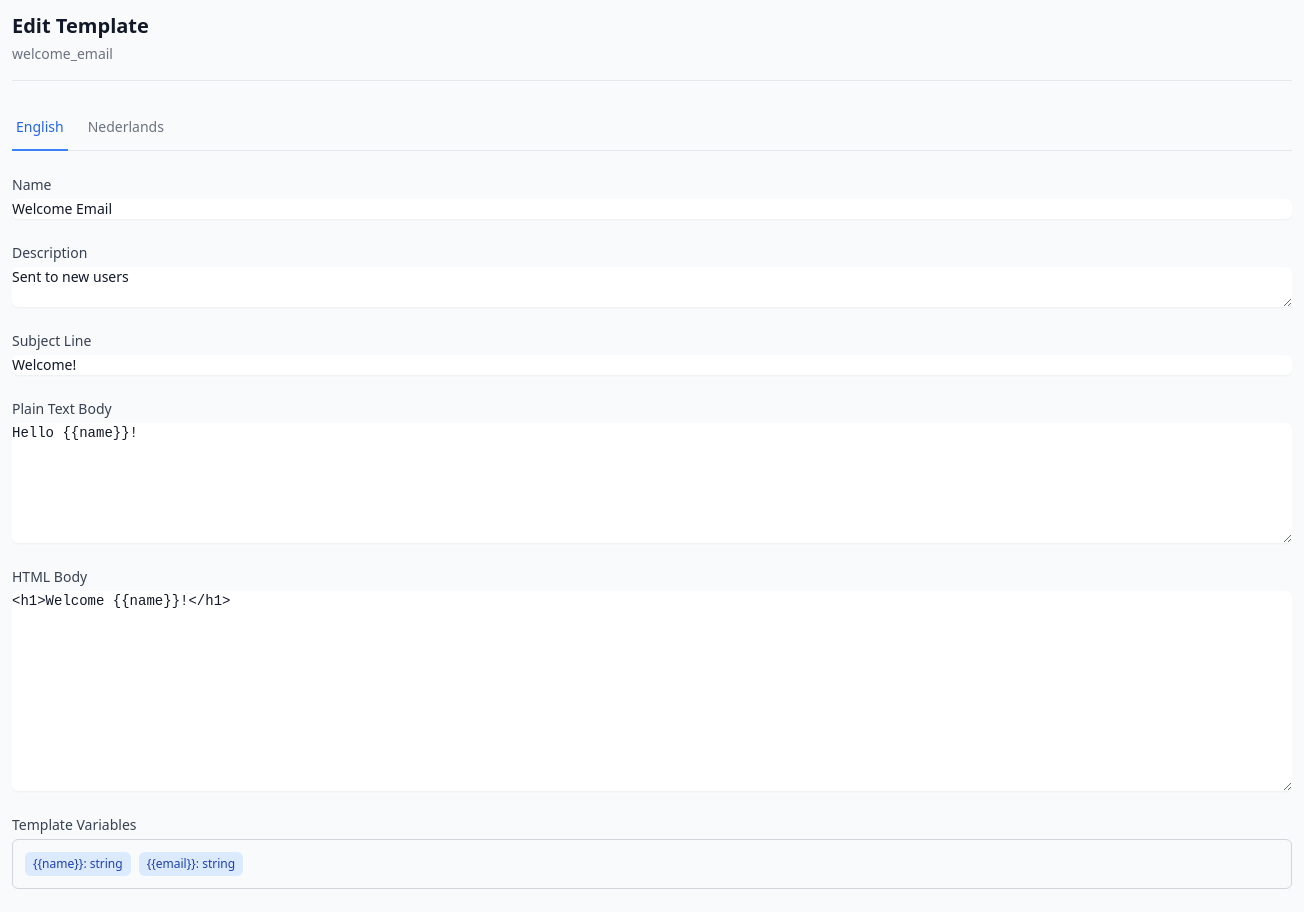
Test: EmailTemplateEditor › Language switching › should switch to Dutch content when NL tab is clicked
Click the button "Nederlands".
click(126, 128)  # box [84,105,168,151]
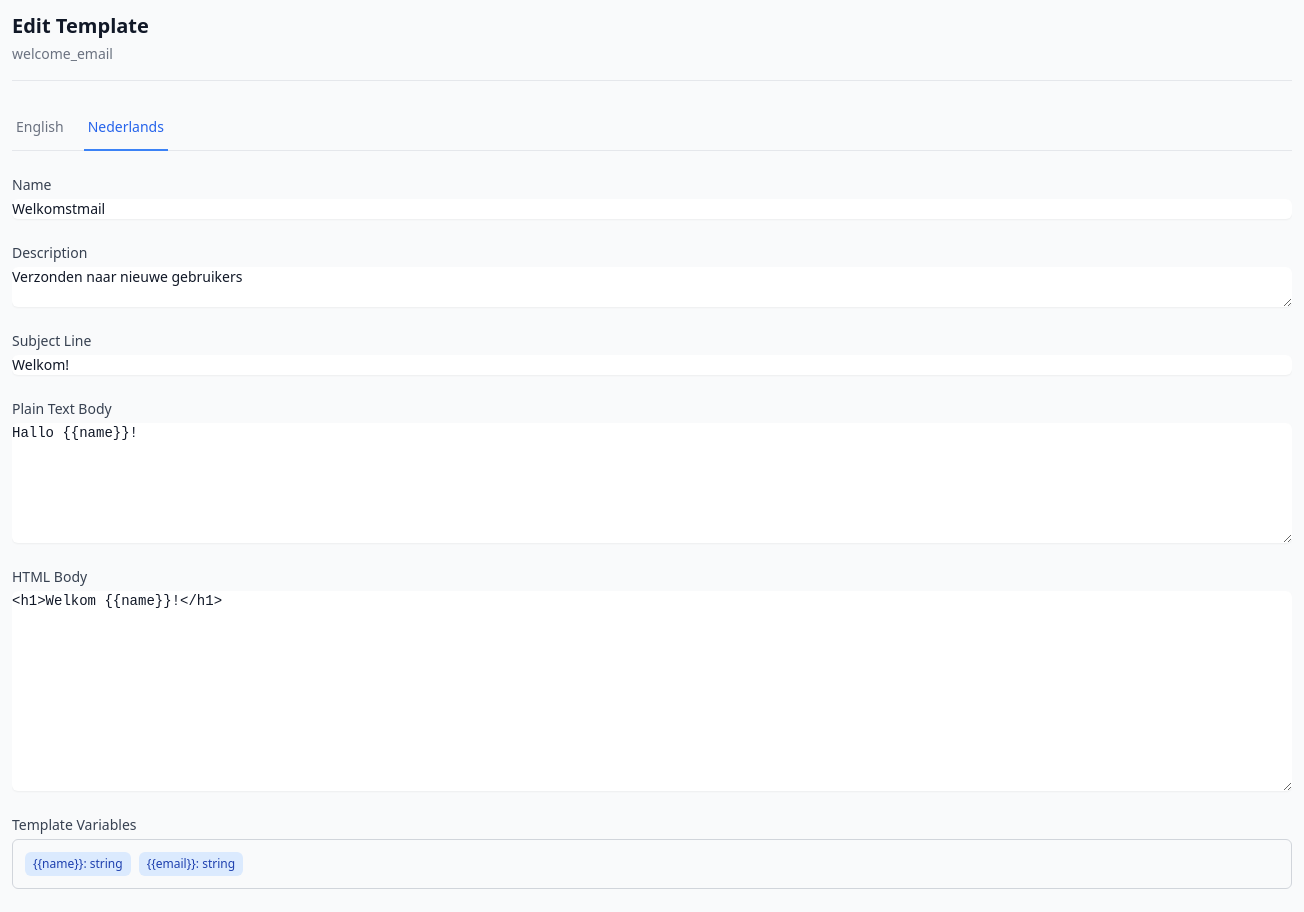
Expected: the field labelled "Name" holds "Welkomstmail", [12,199,1292,219]
